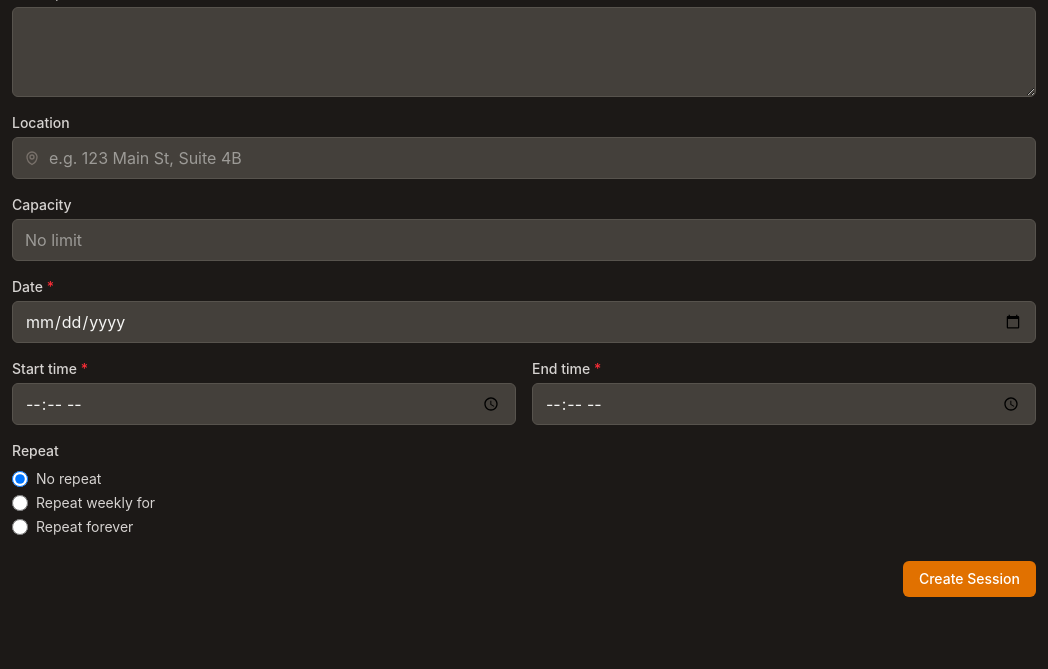
SessionForm › recurrence options › shows day-of-week and interval selectors when repeat weekly is selected
Expected: the field labelled "recur on" is not shown
Expected: the field labelled "every" is not shown
Click the radio button labelled "Repeat weekly for". click: [20, 503]
box: x1=12 y1=495 x2=28 y2=511
(page scrolled)
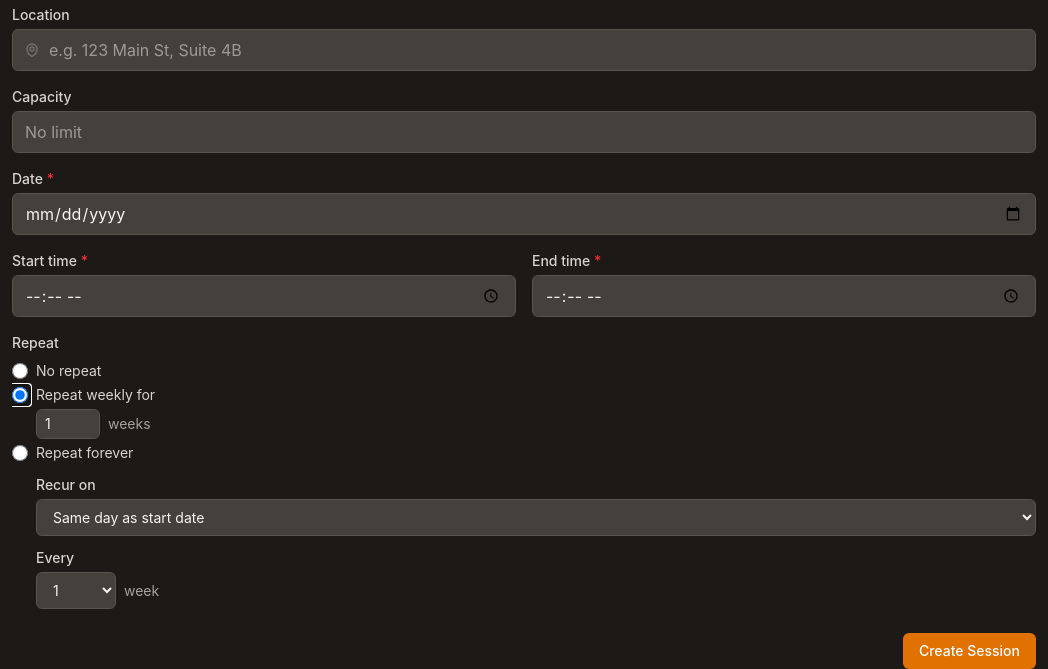
Expected: the dropdown labelled "Recur on" is shown, x1=36 y1=499 x2=1036 y2=536
Expected: the dropdown labelled "Every" is shown, x1=36 y1=572 x2=116 y2=609
